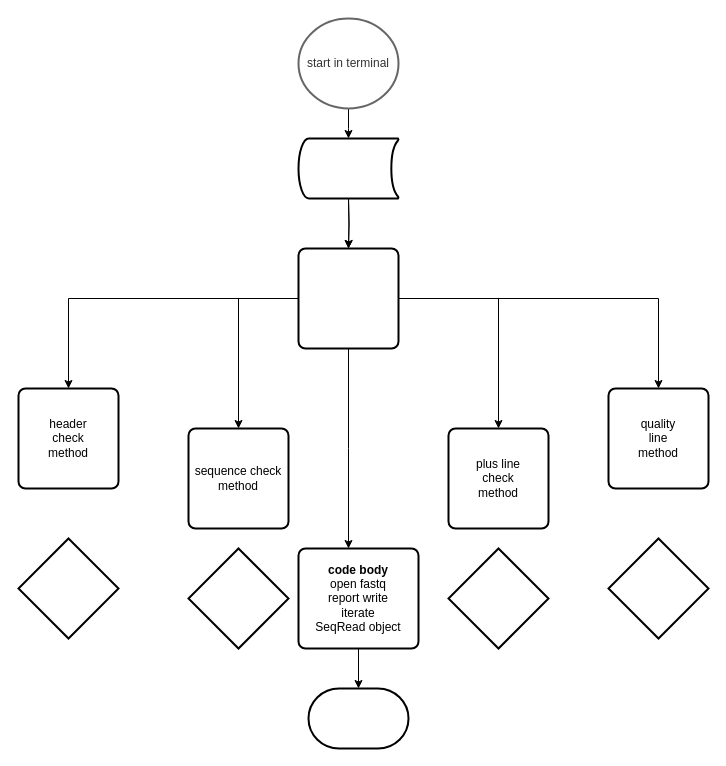
The diagram is 726 pixels wide and 766 high, and some of its shapes have lost their labels. The centre of each missing label's shape, as x and y in pixels:
class "SeqRead" + _init_ method: [348,298]
file.Fastq: [348,168]
